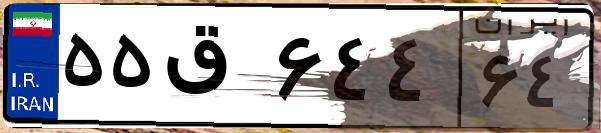4: (385, 28, 445, 110), (330, 28, 385, 110), (525, 38, 570, 115)
5: (57, 26, 110, 100), (110, 28, 158, 98)
6: (270, 28, 330, 110), (475, 38, 525, 113)
ق: (158, 20, 270, 120)
